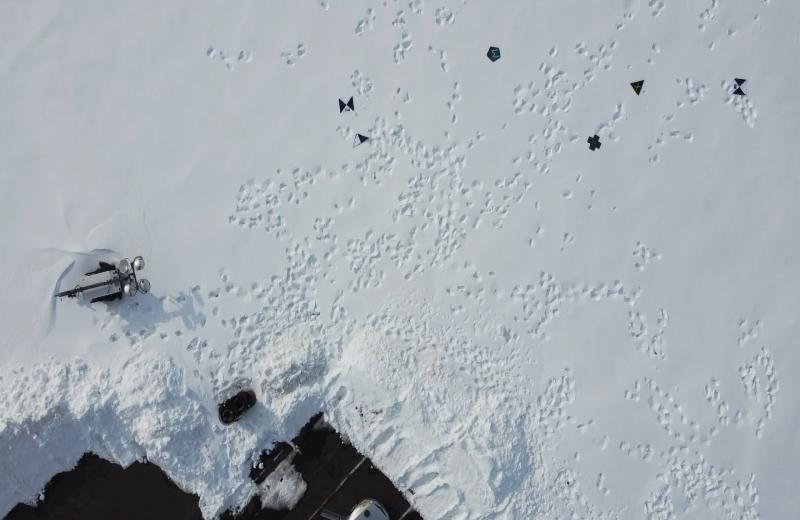Cross: (586, 134, 604, 152)
Pentagon: (486, 45, 502, 64)
Triangle: (629, 79, 646, 95)
